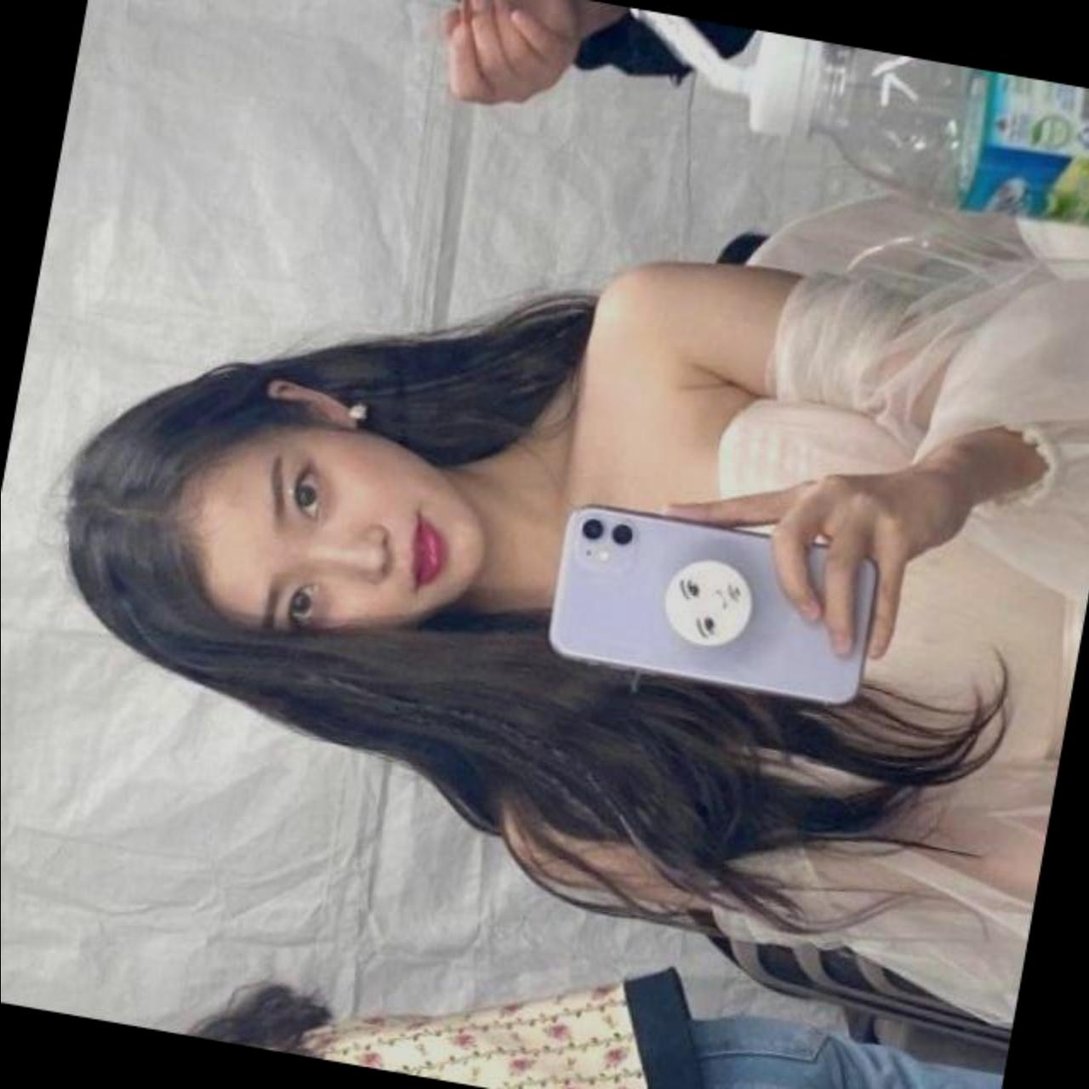phone: (544, 504, 885, 706)
